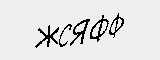Ж: (35, 23, 58, 47)
С: (58, 20, 73, 49)
Ф: (90, 14, 109, 43), (108, 12, 125, 40)
Я: (67, 17, 88, 48)
